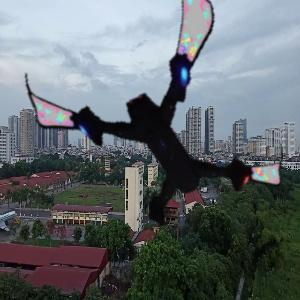drone: (31, 3, 268, 240)
